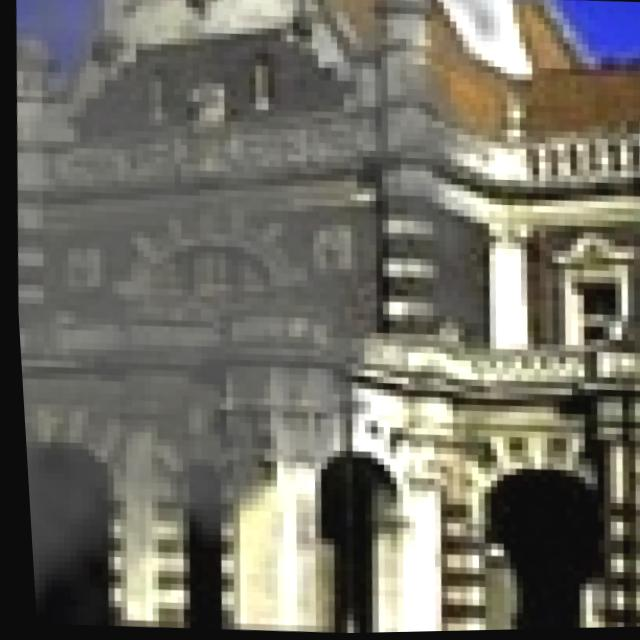smoke: (0, 0, 561, 640)
